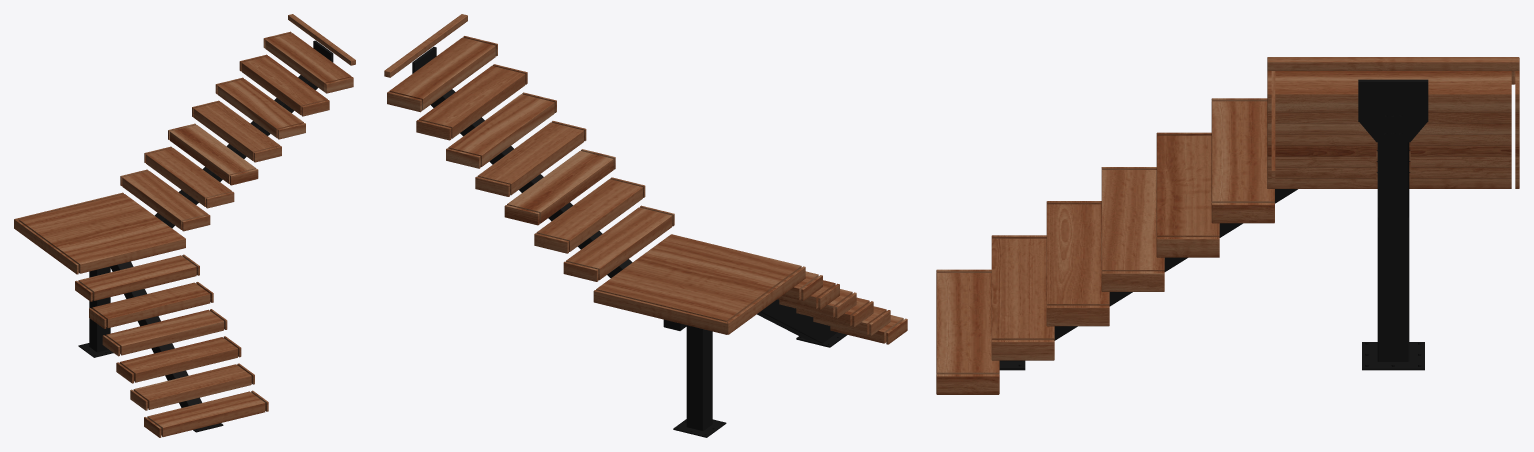
File: L-Shaped_Stair_Boss-with-Tread-Cap.gltf
3 views of the same model, side by side, from view 1: azimuth 30°, elevation 25°; view 2: azimuth 150°, elevation 25°; view 3: azimuth 270°, elevation 25° (orthographic). The views are drawn at different scales.
Visible parts, largest first — view 1: Landing001, Tread Block_073, Tread Block_074, Tread Block_075, Tread Block_077, Tread Block_072, Tread Block_076, Tread Block_055, Tread Block_054, Tread Block_059, Tread Block_053, Tread Block_058 (+6 smaller); view 2: Landing001, Tread Block_056, Tread Block_054, Tread Block_053, Tread Block_055, Tread Block_058, Tread Block_059, Tread Block_057, Column Tube, Stair Stringer_Lower, Stair Stringer_Upper, Floor Nosing002 (+6 smaller); view 3: Tread Block_059, Tread Block_077, Tread Block_076, Tread Block_072, Tread Block_074, Tread Block_075, Tread Block_073, Column Tube, Header Plate, Floor Nosing002, Landing001, Tread Block_053 (+9 smaller).
Boxes of the visible parts, left/top/right/bottom form: Landing001: left=14, top=192, right=185, bottom=274; Tread Block_073: left=102, top=309, right=227, bottom=356; Tread Block_074: left=116, top=336, right=241, bottom=383; Tread Block_075: left=130, top=363, right=254, bottom=410; Tread Block_077: left=75, top=254, right=199, bottom=301; Tread Block_072: left=89, top=282, right=213, bottom=328; Tread Block_076: left=144, top=390, right=268, bottom=437; Tread Block_055: left=168, top=123, right=258, bottom=185; Tread Block_054: left=120, top=169, right=210, bottom=231; Tread Block_059: left=263, top=31, right=353, bottom=93; Tread Block_053: left=144, top=146, right=234, bottom=208; Tread Block_058: left=239, top=54, right=329, bottom=116; Landing001: left=593, top=234, right=805, bottom=334; Tread Block_056: left=475, top=121, right=586, bottom=196; Tread Block_054: left=563, top=205, right=674, bottom=281; Tread Block_053: left=534, top=177, right=645, bottom=253; Tread Block_055: left=504, top=149, right=615, bottom=225; Tread Block_058: left=416, top=64, right=527, bottom=140; Tread Block_059: left=387, top=36, right=497, bottom=112; Tread Block_057: left=446, top=92, right=556, bottom=168; Column Tube: left=686, top=325, right=712, bottom=430; Stair Stringer_Lower: left=681, top=299, right=837, bottom=343; Stair Stringer_Upper: left=431, top=89, right=632, bottom=277; Floor Nosing002: left=384, top=14, right=467, bottom=77; Tread Block_059: left=1267, top=71, right=1519, bottom=112; Tread Block_077: left=1211, top=98, right=1274, bottom=223; Tread Block_076: left=936, top=269, right=999, bottom=394; Tread Block_072: left=1156, top=132, right=1219, bottom=257; Tread Block_074: left=1046, top=201, right=1109, bottom=326; Tread Block_075: left=991, top=235, right=1054, bottom=360; Tread Block_073: left=1101, top=167, right=1164, bottom=291; Column Tube: left=1377, top=217, right=1409, bottom=361; Header Plate: left=1359, top=82, right=1427, bottom=142; Floor Nosing002: left=1267, top=57, right=1519, bottom=70; Landing001: left=1267, top=71, right=1519, bottom=188; Tread Block_053: left=1267, top=150, right=1519, bottom=167.
Bounding box in the file's own units: 3.12 × 2.74 × 2.82.
